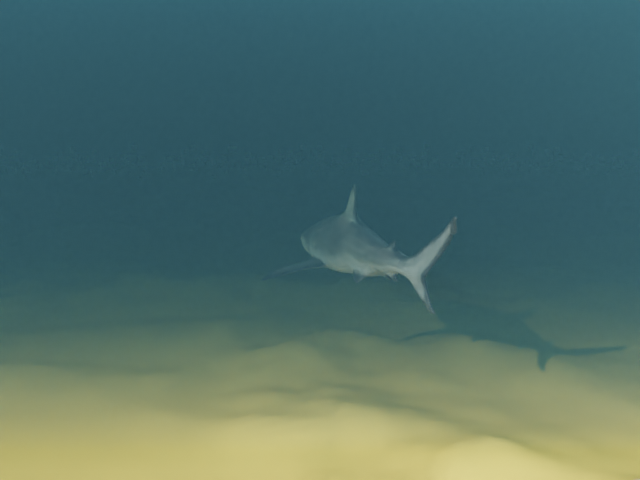Carribean Shark.001: (260, 184, 457, 314)
